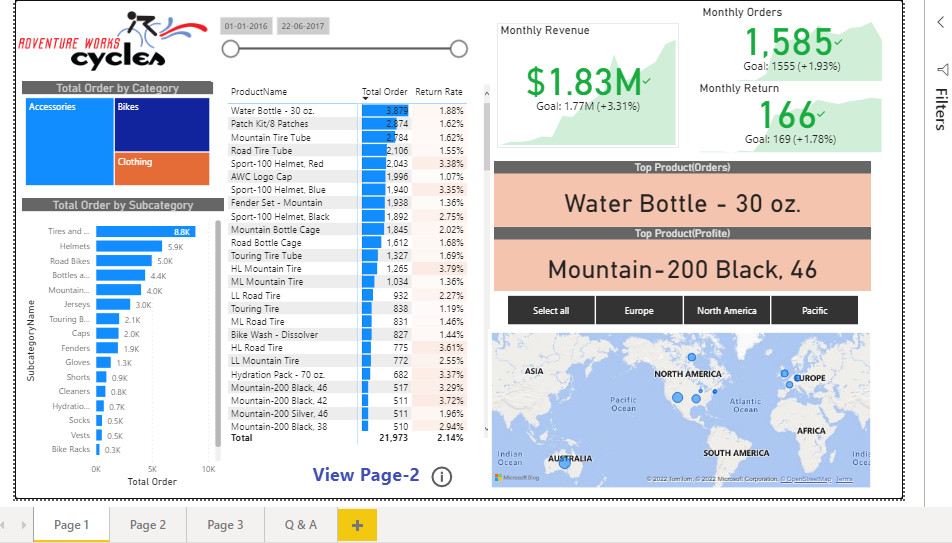

This screenshot's page, from the dashboard's own definition file:
{"tool":"powerbi","page":{"name":"Page 1","canvas":[1280,720],"ordinal":0},"visuals":[{"type":"image","box":[0,0,286.3,117.1],"z":0},{"type":"barChart","title":"Total  Order by Subcategory","fields":{"Y":["AW_Sales.Total  Order"],"Category":["AW_Product_Subcategories_Lookup.SubcategoryName"]},"box":[10.1,286.3,292,422.2],"z":1000},{"type":"treemap","title":"Total  Order by Category","fields":{"Group":["AW_Product_Categories_Lookup.CategoryName","AW_Product_Subcategories_Lookup.SubcategoryName"],"Values":["AW_Sales.Total  Order"]},"box":[10.1,117.1,276.1,156.1],"z":2000},{"type":"pivotTable","fields":{"Values":["AW_Sales.Total  Order","AW_Returns.Return Rate"],"Rows":["AW_Product_Categories_Lookup.CategoryName","AW_Product_Subcategories_Lookup.SubcategoryName","AW_Product_Lookup.ProductName"]},"box":[302.2,117.1,388.9,529.2],"z":3000},{"type":"slicer","fields":{"Values":["AW_Calendar_Lookup.Date"]},"box":[283.4,14.5,383.1,102.7],"z":4000},{"type":"kpi","title":"Monthly Revenue","fields":{"Indicator":["AW_Sales.Total Revenue"],"TrendLine":["AW_Calendar_Lookup.Start of Month"],"Goal":["AW_Sales.Prev Month Revenue"]},"box":[695.4,33.3,263.1,180.7],"z":5000},{"type":"kpi","title":"Monthly Orders","fields":{"TrendLine":["AW_Calendar_Lookup.Start of Month"],"Indicator":["AW_Sales.Total  Order"],"Goal":["AW_Sales.Prev Month Orders"]},"box":[987.5,7.2,268.9,117.1],"z":6000},{"type":"kpi","title":"Monthly Return","fields":{"TrendLine":["AW_Calendar_Lookup.Start of Month"],"Indicator":["AW_Returns.Tatal Returns"],"Goal":["AW_Returns.Prev Month Returns"]},"box":[983.1,117.1,273.3,108.4],"z":7000},{"type":"card","title":"Top Product(Orders)","fields":{"Values":["Min(AW_Product_Lookup.ProductName)"]},"box":[690.5,231.8,543.8,95.3],"z":8000},{"type":"card","title":"Top Product(Profite)","fields":{"Values":["Min(AW_Product_Lookup.ProductName)"]},"box":[690.5,327.1,543.8,95.3],"z":9000},{"type":"map","fields":{"Size":["AW_Sales.Total  Order"],"Category":["AW_Territories_Lookup.Region"]},"box":[682.4,474.2,556.6,234.2],"z":10000},{"type":"slicer","fields":{"Values":["AW_Territories_Lookup.Continent"]},"box":[685.3,419.3,555.2,54.9],"z":11000},{"type":"textbox","box":[423.6,659.3,205.3,49.2],"z":12000},{"type":"actionButton","box":[595.7,668,70.8,40.5],"z":13000}]}

Visuals, with their boxes on the page's 1280x720 design canvas (x1, y1, x2, y2). These are canvas units, not pixel positions in the 952x543 screenshot, which may show the page scaled, cropped or inside an application window:
image: rect(0, 0, 286, 117)
"Total  Order by Subcategory" barChart: rect(10, 286, 302, 708)
"Total  Order by Category" treemap: rect(10, 117, 286, 273)
pivotTable - AW_Sales.Total  Order x AW_Returns.Return Rate: rect(302, 117, 691, 646)
slicer - AW_Calendar_Lookup.Date: rect(283, 14, 666, 117)
"Monthly Revenue" kpi: rect(695, 33, 958, 214)
"Monthly Orders" kpi: rect(988, 7, 1256, 124)
"Monthly Return" kpi: rect(983, 117, 1256, 226)
"Top Product(Orders)" card: rect(690, 232, 1234, 327)
"Top Product(Profite)" card: rect(690, 327, 1234, 422)
map - AW_Sales.Total  Order x AW_Territories_Lookup.Region: rect(682, 474, 1239, 708)
slicer - AW_Territories_Lookup.Continent: rect(685, 419, 1240, 474)
textbox: rect(424, 659, 629, 708)
actionButton: rect(596, 668, 666, 708)
